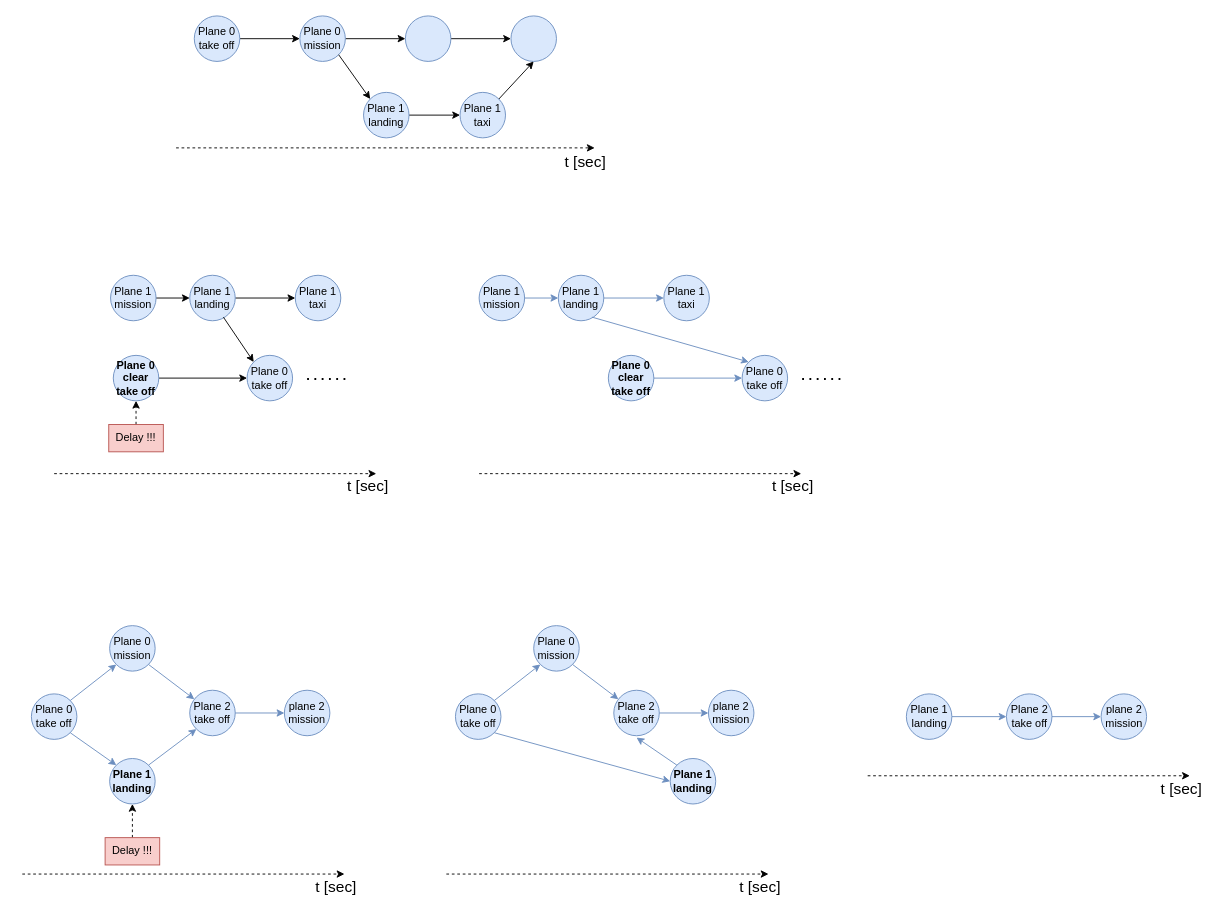
This 1225x917 diagram has some shape labels left out. The shapes that lost their labels are listed below. From the top down, each one's centre as x and y in pixels, then its label:
the point at 427,38: Plane 0 landing
the point at 533,38: Plane 0 taxi
